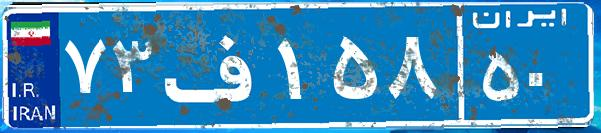0: (525, 38, 570, 115)
1: (273, 28, 330, 110)
3: (110, 28, 158, 105)
5: (330, 28, 385, 110), (475, 38, 525, 113)
7: (57, 26, 110, 107)
8: (385, 28, 445, 110)
ف: (158, 15, 273, 115)
